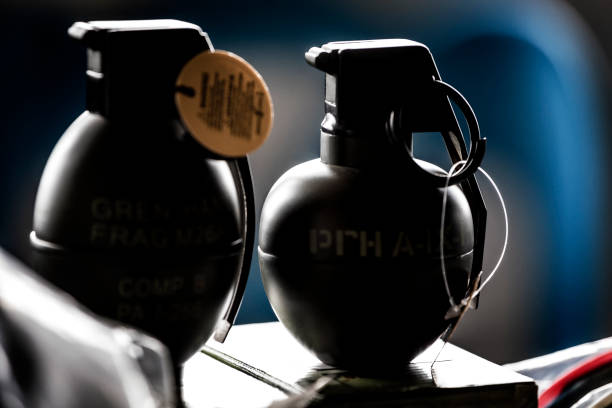e1: (260, 34, 486, 380), (36, 17, 257, 357)
